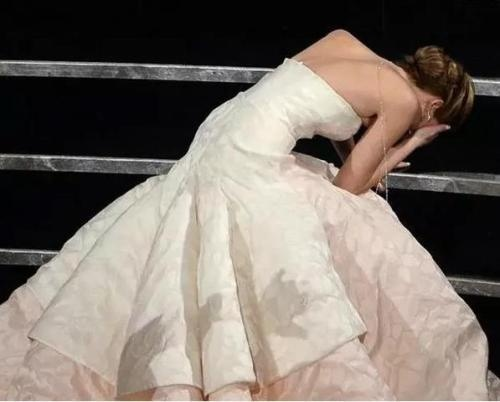falling: (15, 23, 482, 402)
